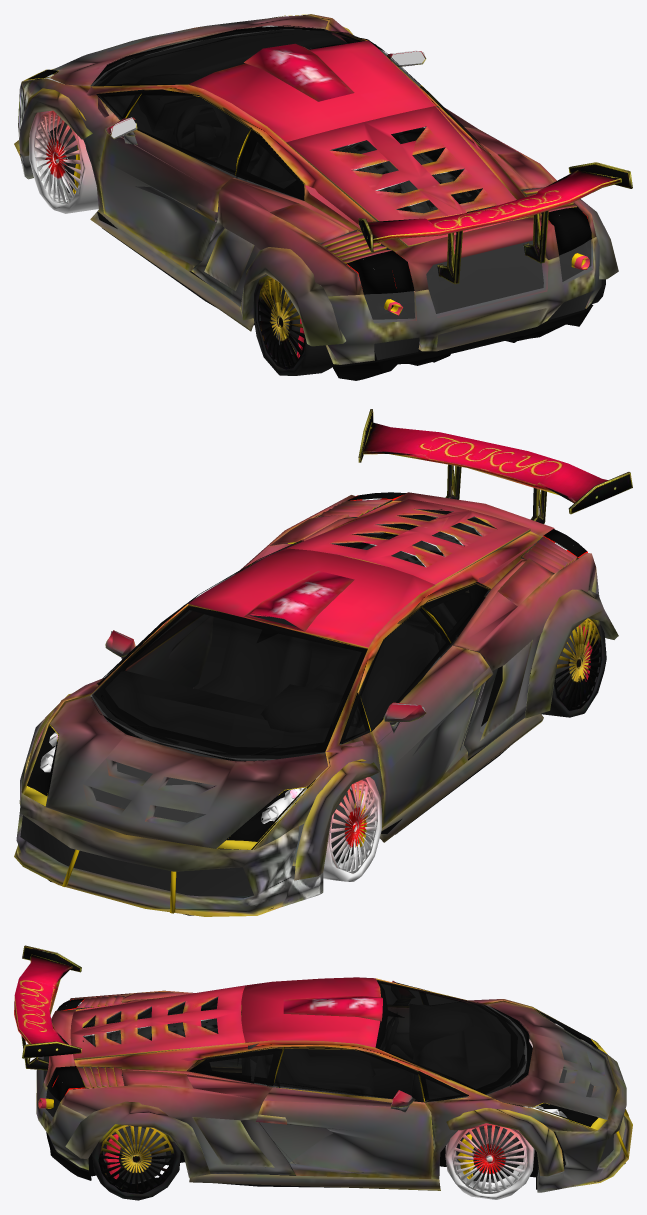
The model's file is 026-free-lamborghini-gallardo-tokyo-drift_card.glb.
The picture shows the model from 3 angles, top to bottom: view 1: azimuth 30°, elevation 25°; view 2: azimuth 150°, elevation 25°; view 3: azimuth 270°, elevation 25°; orthographic projection. The views are drawn at different scales.
Visible parts, largest first — view 1: Main Body_12, Interior_13, windows_24, Vents_1, Wing_4, windshield_25, Tail lights glass_27, Bottom Plate_18, Front Rims_22, Back Rims_29, Engine Window_3, Plastics_14 (+7 smaller); view 2: Main Body_12, windshield_25, Interior_13, Wing_4, windows_24, Vents_1, Window Plastics_23, Front Rims_22, Back Rims_29, Plastics_14, Headlights Base_11, Engine Window_3 (+10 smaller); view 3: Main Body_12, Interior_13, windshield_25, windows_24, Wing_4, Front Rims_22, Back Rims_29, Window Plastics_23, front Brakes_16, Back Brakes_17, Bottom Plate_18, Plastics_14 (+8 smaller).
Boxes of the visible parts, box(x1,y1,x2,y2) form: Main Body_12: box(14, 14, 618, 364); Interior_13: box(90, 29, 439, 210); windows_24: box(98, 39, 483, 199); Vents_1: box(364, 239, 592, 360); Wing_4: box(358, 162, 632, 284); windshield_25: box(93, 30, 365, 86); Tail lights glass_27: box(347, 207, 591, 294); Bottom Plate_18: box(19, 150, 593, 380); Front Rims_22: box(34, 110, 82, 204); Back Rims_29: box(258, 277, 305, 369); Engine Window_3: box(332, 127, 482, 213); Plastics_14: box(92, 25, 490, 200); Main Body_12: box(14, 492, 618, 916); windshield_25: box(92, 605, 367, 759); Interior_13: box(91, 598, 484, 761); Wing_4: box(358, 409, 632, 523); windows_24: box(97, 541, 489, 743); Vents_1: box(20, 615, 297, 896); Window Plastics_23: box(94, 584, 487, 755); Front Rims_22: box(329, 780, 377, 873); Back Rims_29: box(554, 618, 601, 710); Plastics_14: box(91, 539, 490, 761); Headlights Base_11: box(27, 724, 315, 841); Engine Window_3: box(334, 509, 496, 566); Main Body_12: box(36, 977, 632, 1192); Interior_13: box(242, 1002, 526, 1173); windshield_25: box(375, 979, 526, 1094); windows_24: box(188, 983, 468, 1101); Wing_4: box(14, 945, 81, 1070); Front Rims_22: box(452, 1124, 527, 1193); Back Rims_29: box(98, 1125, 174, 1193); Window Plastics_23: box(190, 981, 517, 1100); front Brakes_16: box(456, 1125, 523, 1182); Back Brakes_17: box(102, 1126, 171, 1183); Bottom Plate_18: box(46, 1042, 625, 1189); Plastics_14: box(187, 982, 529, 1102).
Size of the model in its own units: 1.4 by 0.8 by 3.02.
Materials: 30 (13 with a texture image).
